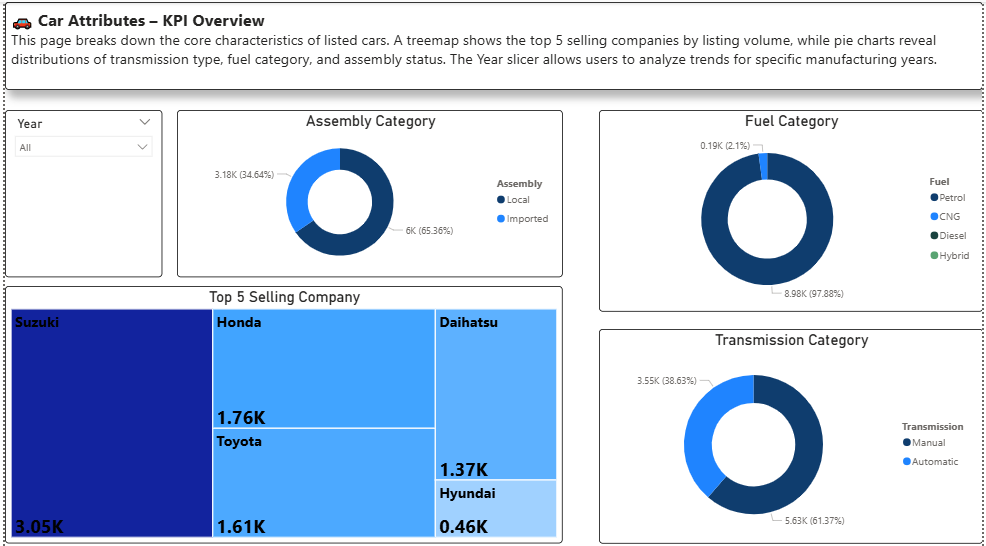

Layout of this report page (visuals, bound fields, positions):
{"tool":"powerbi","page":{"name":"Car Attributes","canvas":[1280,720],"ordinal":4},"visuals":[{"type":"donutChart","title":"Fuel Category","fields":{"Category":["OLX_cars_dataset00.Fuel"],"Y":["CountNonNull(OLX_cars_dataset00.Fuel)"]},"box":[777.6,141.1,502.6,263.5],"z":0},{"type":"donutChart","title":"Transmission Category","fields":{"Category":["OLX_cars_dataset00.Transmission"],"Y":["CountNonNull(OLX_cars_dataset00.Transmission)"]},"box":[777.6,427.7,502.6,280.8],"z":1000},{"type":"donutChart","title":"Assembly Category","fields":{"Category":["OLX_cars_dataset00.Assembly"],"Y":["CountNonNull(OLX_cars_dataset00.Assembly)"]},"box":[224.6,141.1,505.4,218.9],"z":2000},{"type":"treemap","title":"Top 5 Selling Company","fields":{"Group":["OLX_cars_dataset00.Make"],"Values":["CountNonNull(OLX_cars_dataset00.Model)"]},"box":[0,371.5,730.1,337],"z":3000},{"type":"actionButton","box":[0,0,100,40],"z":4000},{"type":"textbox","box":[0,0,1280.2,115.2],"z":4001},{"type":"slicer","fields":{"Values":["OLX_cars_dataset00.Year"]},"box":[0,141.1,205.9,218.9],"z":4002}]}

Visuals, with their boxes in screenshot pixels (x1, y1, x2, y2), scaled from the page's 1280x720 canvas onto the 986x546 screenshot:
"Fuel Category" donutChart: region(599, 107, 985, 307)
"Transmission Category" donutChart: region(599, 324, 985, 537)
"Assembly Category" donutChart: region(173, 107, 562, 273)
"Top 5 Selling Company" treemap: region(0, 282, 562, 537)
actionButton: region(0, 0, 77, 30)
textbox: region(0, 0, 985, 87)
slicer - OLX_cars_dataset00.Year: region(0, 107, 159, 273)
